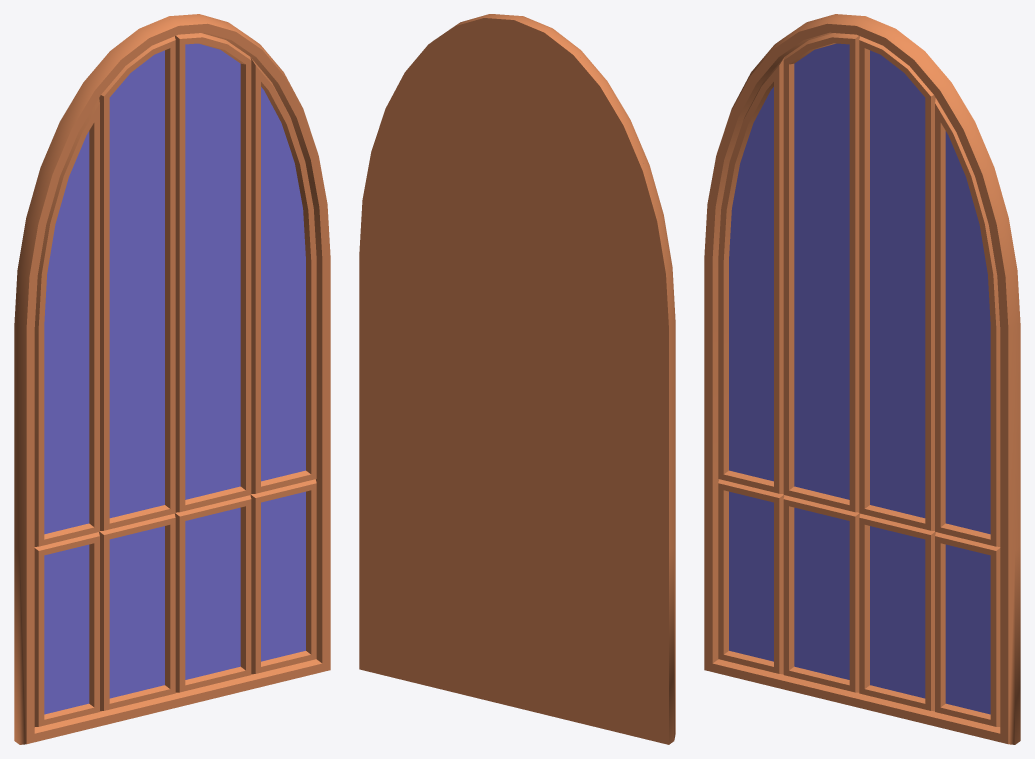
Rendered from SP_House06_Window05.fbx.
3 views of the same model, side by side, from view 1: azimuth 30°, elevation 25°; view 2: azimuth 150°, elevation 25°; view 3: azimuth 330°, elevation 25° (orthographic).
Visible parts, largest first — view 1: SP_House06_Window05; view 2: SP_House06_Window05; view 3: SP_House06_Window05.
Boxes of the visible parts, left/top/right/bottom form: SP_House06_Window05: left=14, top=14, right=330, bottom=744; SP_House06_Window05: left=359, top=14, right=675, bottom=744; SP_House06_Window05: left=704, top=14, right=1020, bottom=744.
Bounding box in the file's own units: 1.13 × 2.39 × 0.0587.
